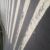others: (21, 1, 50, 50)
